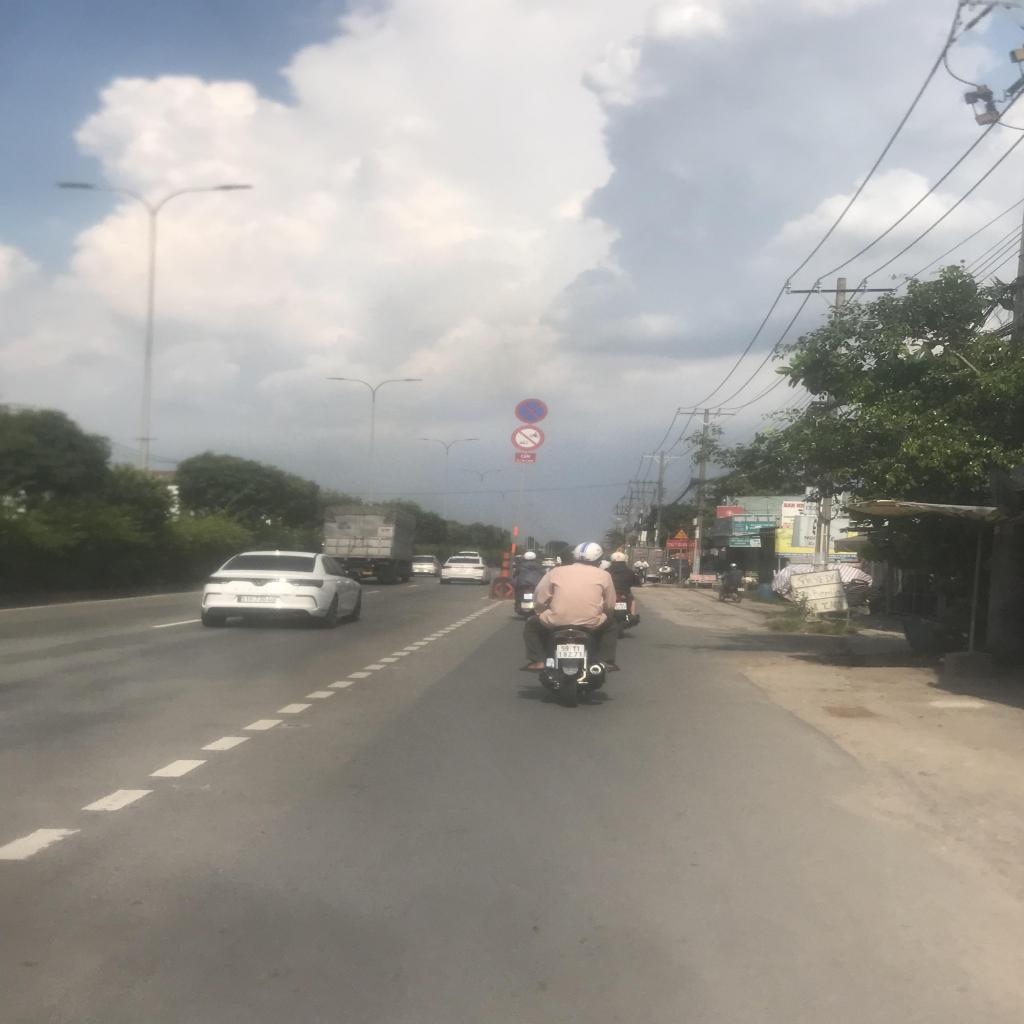cam_dung_xe_va_do_xe: (515, 399, 548, 424)
cam_xe_2_banh_va_xe_3_banh_co_dong_co: (510, 425, 544, 452)
di_cham: (674, 528, 689, 538)
